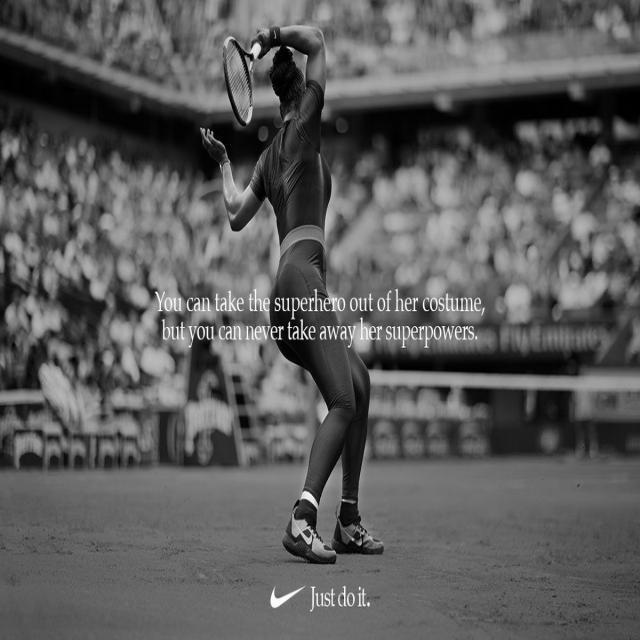Nike: (266, 577, 308, 618)
